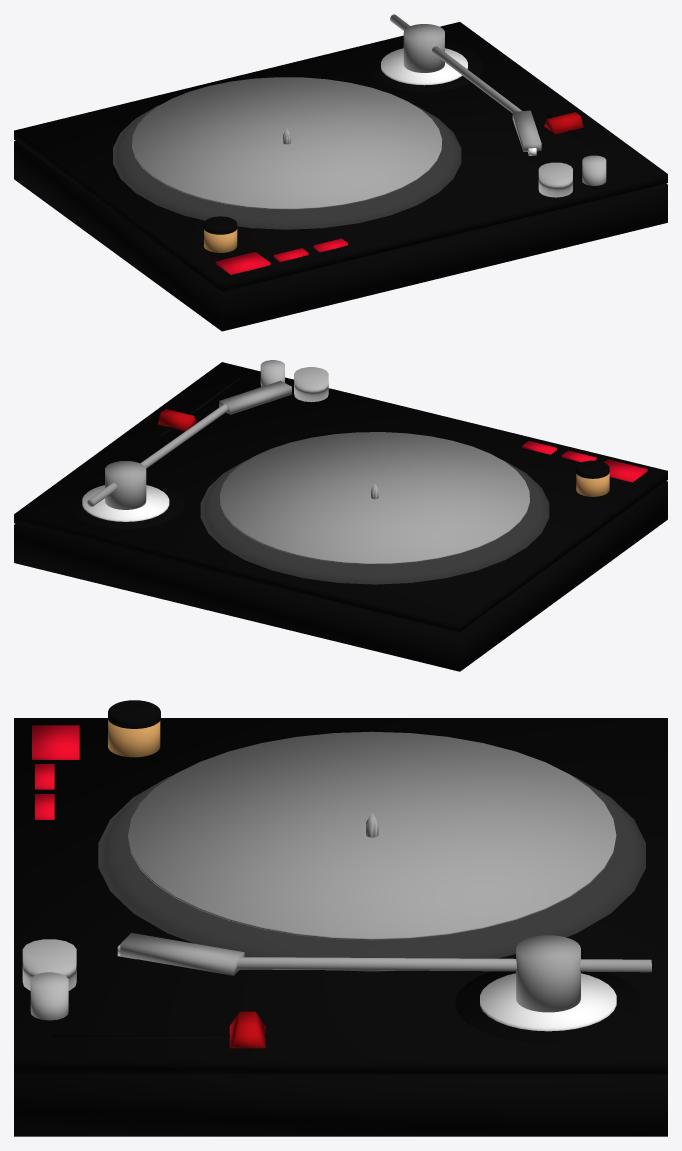
The model's file is basic-turntable.glb.
The picture shows the model from 3 angles, top to bottom: view 1: azimuth 30°, elevation 25°; view 2: azimuth 150°, elevation 25°; view 3: azimuth 270°, elevation 25°; orthographic projection. The views are drawn at different scales.
Parts seen in each view (by area): view 1: Box02, Cylinder03, Box01, Cylinder01, Cylinder07, arm_origin, Cylinder08, Cylinder05, Cylinder10, Box09, Box05, Cylinder06 (+3 smaller); view 2: Box02, Cylinder03, Box01, Cylinder01, Cylinder07, arm_origin, Cylinder08, Box09, Cylinder10, Cylinder05, Cylinder02, Box05 (+3 smaller); view 3: Box02, Cylinder03, Box01, Cylinder01, arm_origin, Cylinder10, Cylinder07, Cylinder08, Box09, Cylinder05, Cylinder06, Box05 (+4 smaller).
Part boxes in pixels (x1,y1,x2,y2): Box02: (14,22,667,291); Cylinder03: (132,77,442,209); Box01: (14,141,667,331); Cylinder01: (113,104,461,229); Cylinder07: (365,43,483,92); arm_origin: (403,24,444,72); Cylinder08: (381,48,467,85); Cylinder05: (538,162,572,197); Cylinder10: (390,14,521,112); Box09: (512,110,541,151); Box05: (215,252,270,274); Cylinder06: (582,155,606,185); Box02: (14,362,667,631); Cylinder03: (220,432,529,564); Box01: (14,481,667,671); Cylinder01: (200,459,549,584); Cylinder07: (67,480,184,529); arm_origin: (105,461,146,509); Cylinder08: (82,485,169,521); Box09: (219,380,291,414); Cylinder10: (87,404,227,506); Cylinder05: (294,367,328,402); Cylinder02: (576,473,609,496); Box05: (604,459,647,482); Box02: (14,718,667,1074); Cylinder03: (128,731,616,940); Box01: (14,1074,667,1136); Cylinder01: (98,775,645,971); arm_origin: (516,935,580,1012); Cylinder10: (237,957,651,972); Cylinder07: (455,971,640,1042); Cylinder08: (480,973,616,1031); Box09: (120,933,244,975); Cylinder05: (22,939,76,990); Cylinder06: (30,972,68,1020); Box05: (32,725,79,759).
Size of the model in its own units: 0.3542 by 0.0634 by 0.2861.
